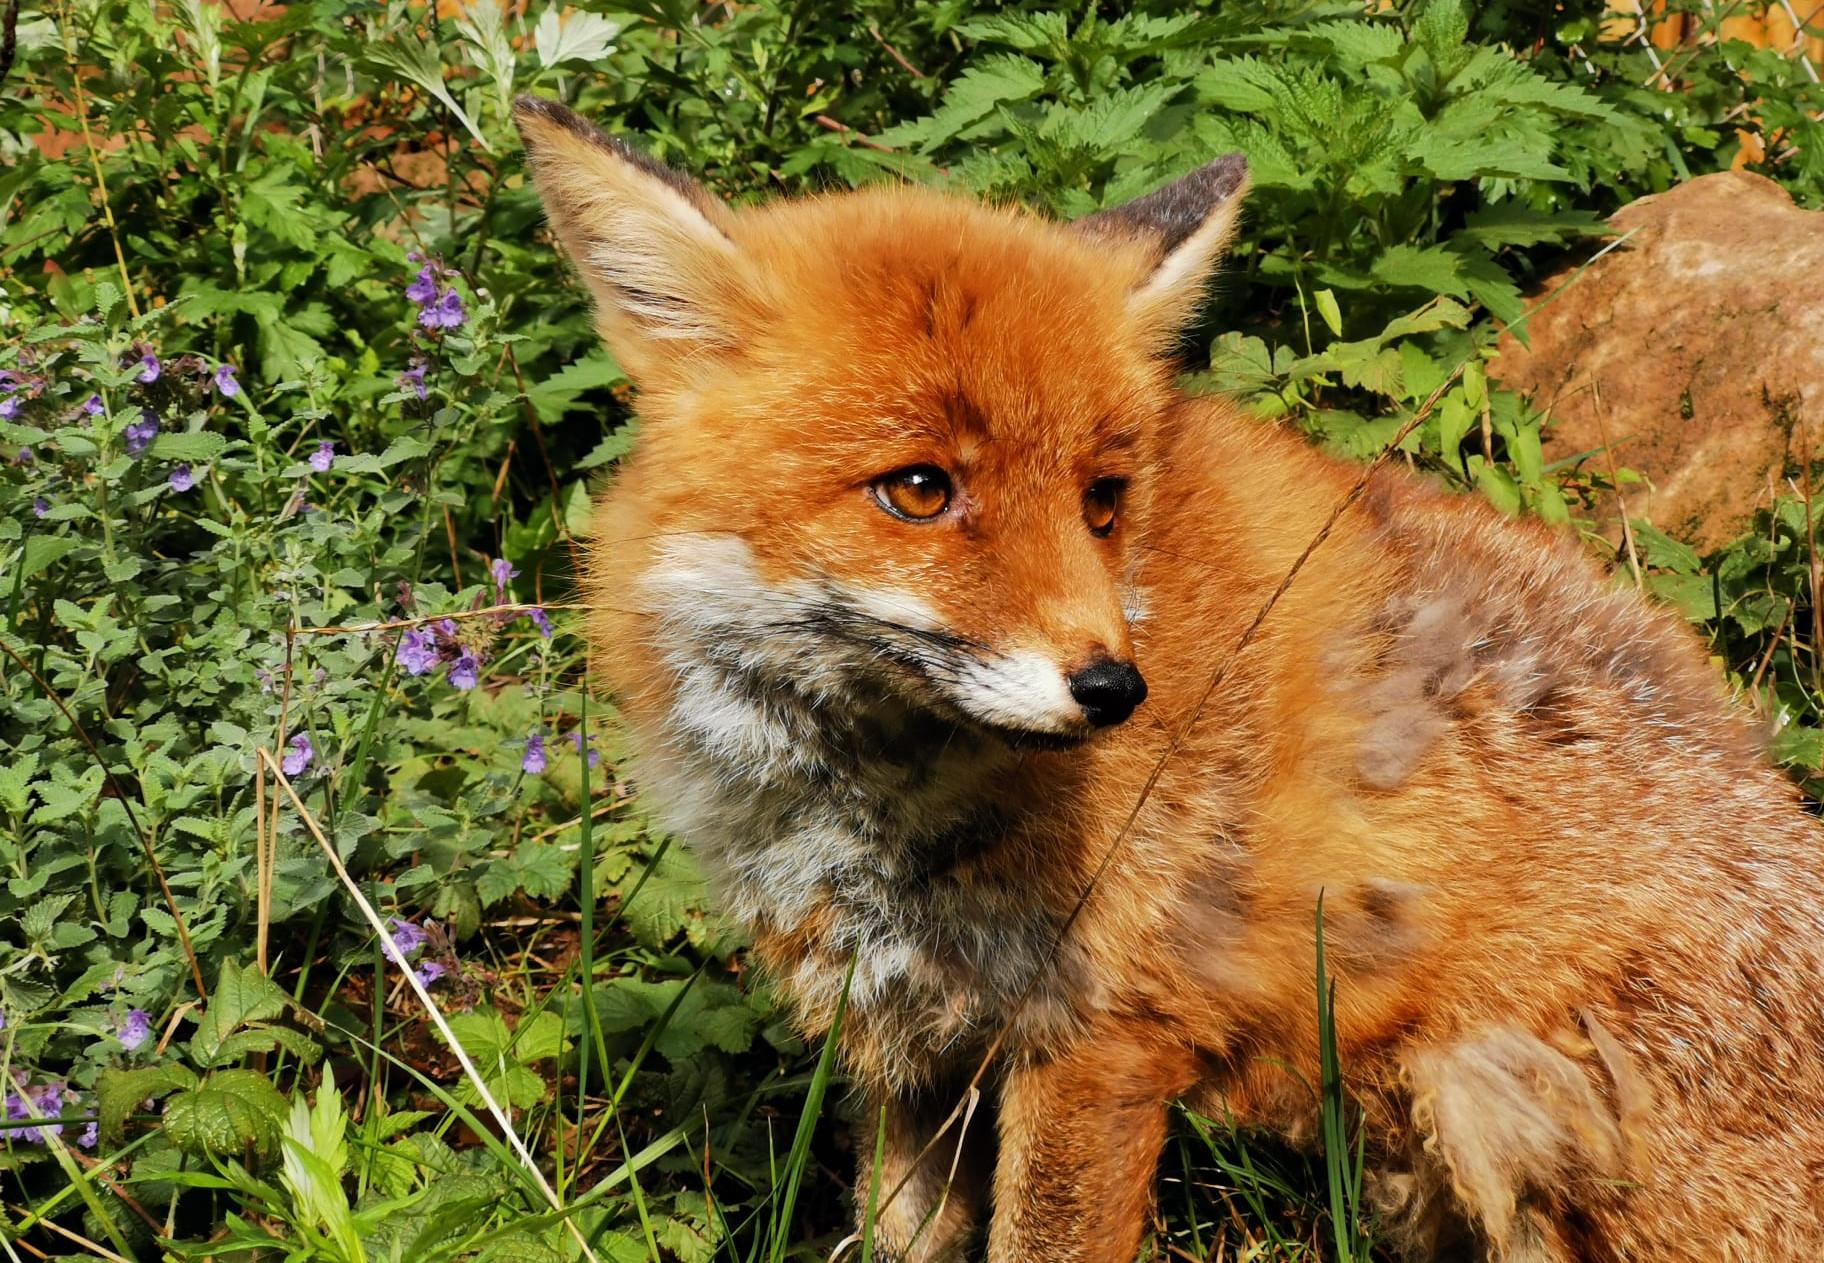fox: (475, 68, 1824, 1263)
